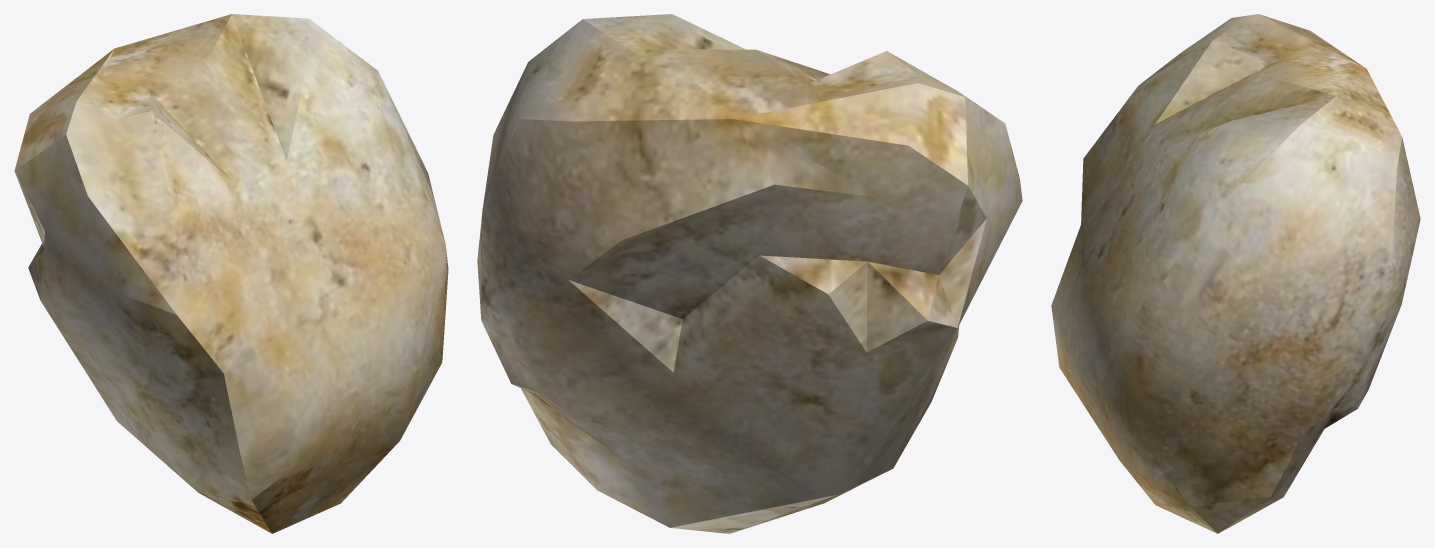
The picture shows the model from 3 angles, left to right: view 1: azimuth 30°, elevation 25°; view 2: azimuth 150°, elevation 25°; view 3: azimuth 270°, elevation 25°; orthographic projection. The views are drawn at different scales.
Parts seen in each view (by area): view 1: rock011_lod4; view 2: rock011_lod4; view 3: rock011_lod4.
Boxes of the visible parts, x1,y1,x2,y2 form: rock011_lod4: (14,14,448,533); rock011_lod4: (477,14,1022,533); rock011_lod4: (1051,14,1420,533).
Size of the model in its own units: 1 by 1.1 by 0.8724.
Materials: 1 (1 with a texture image).
